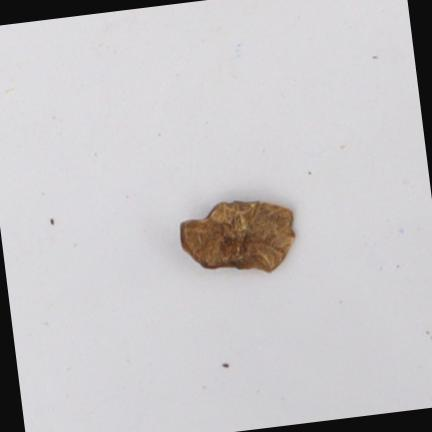full-black: (180, 201, 294, 271)
